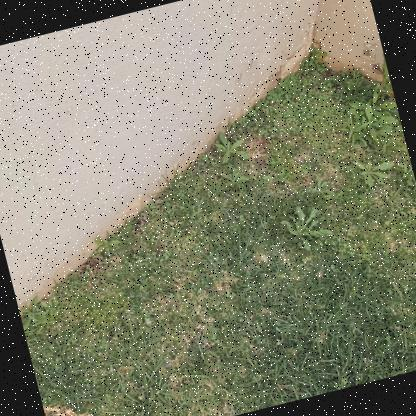Weeds: (277, 200, 336, 259), (348, 97, 403, 148), (16, 289, 65, 335), (327, 64, 376, 107), (349, 88, 399, 126), (353, 151, 399, 192), (211, 125, 251, 167), (334, 111, 373, 152), (371, 127, 403, 159), (305, 172, 336, 202), (219, 165, 252, 192), (91, 230, 123, 257), (397, 158, 415, 192), (261, 167, 289, 188)
